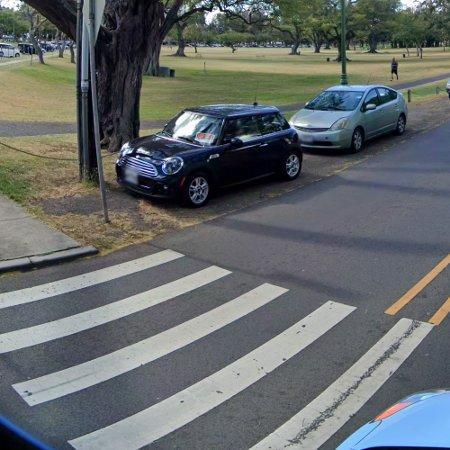crosswalks: (0, 247, 437, 450)
